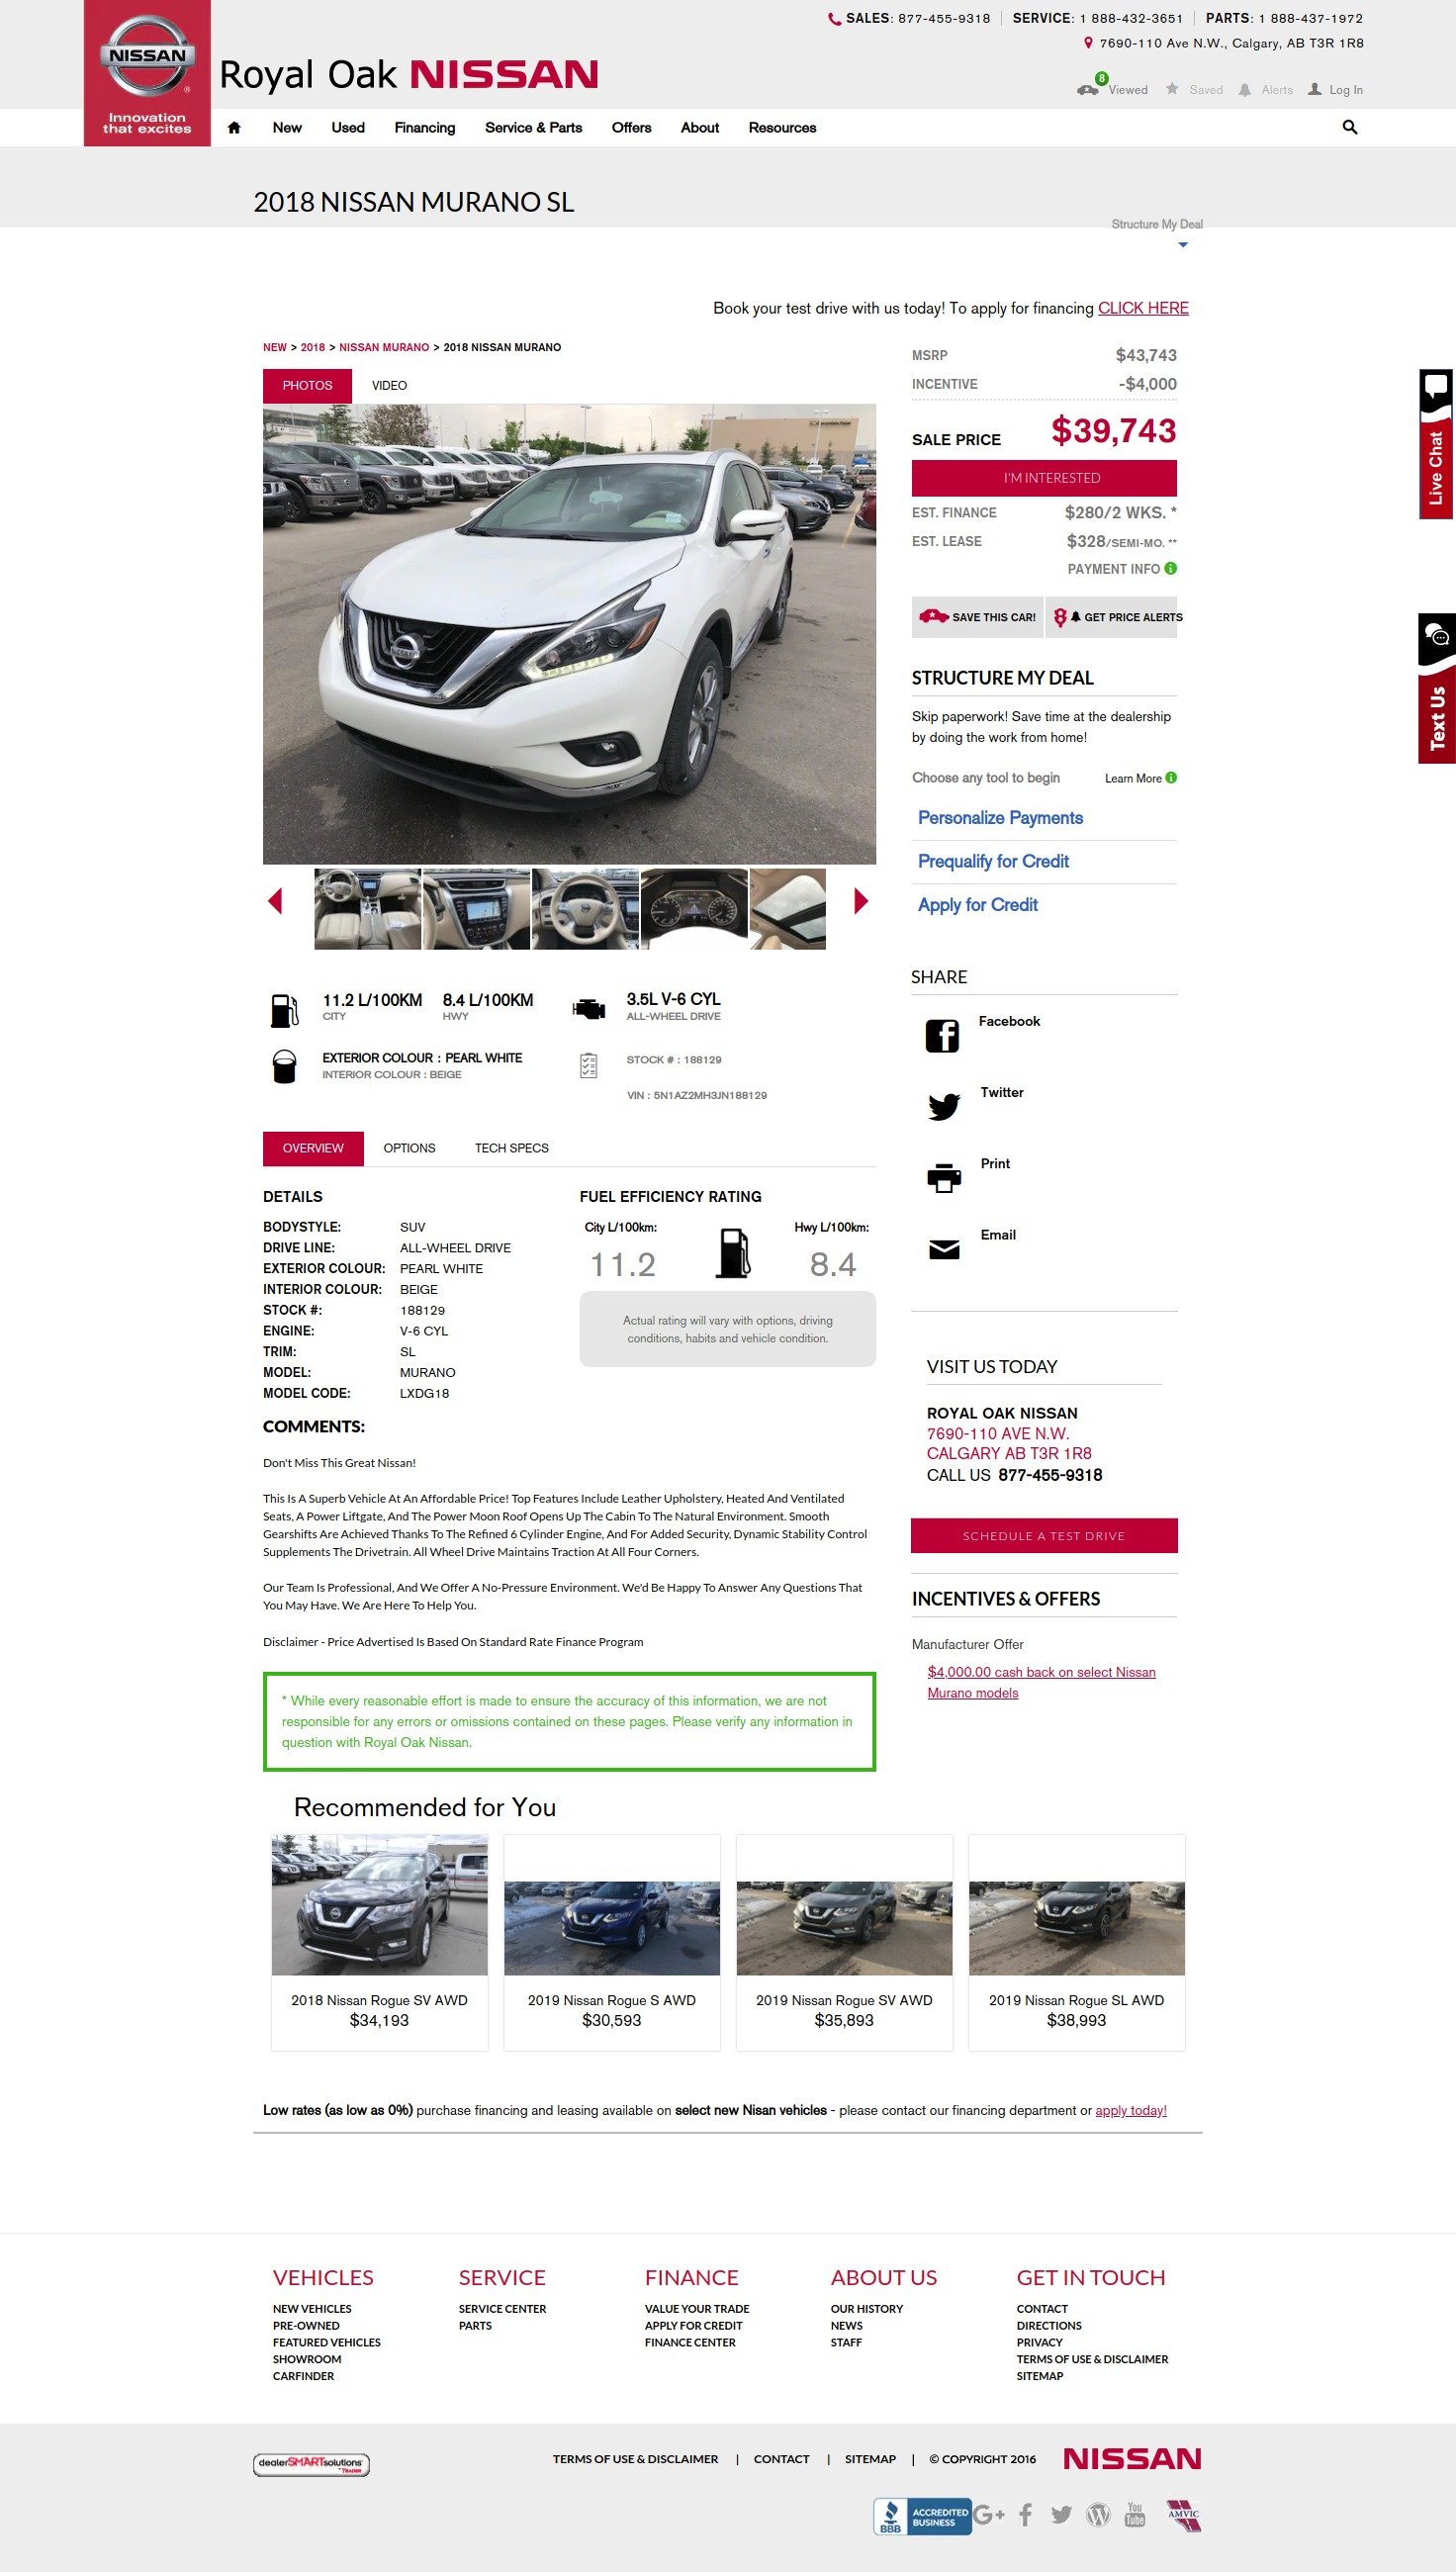car: (855, 887, 871, 917)
